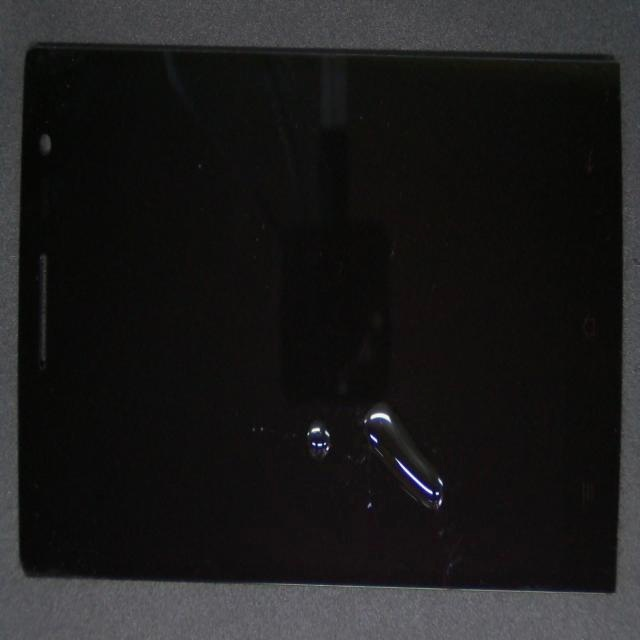oil: (263, 265, 640, 640), (163, 200, 466, 634)
